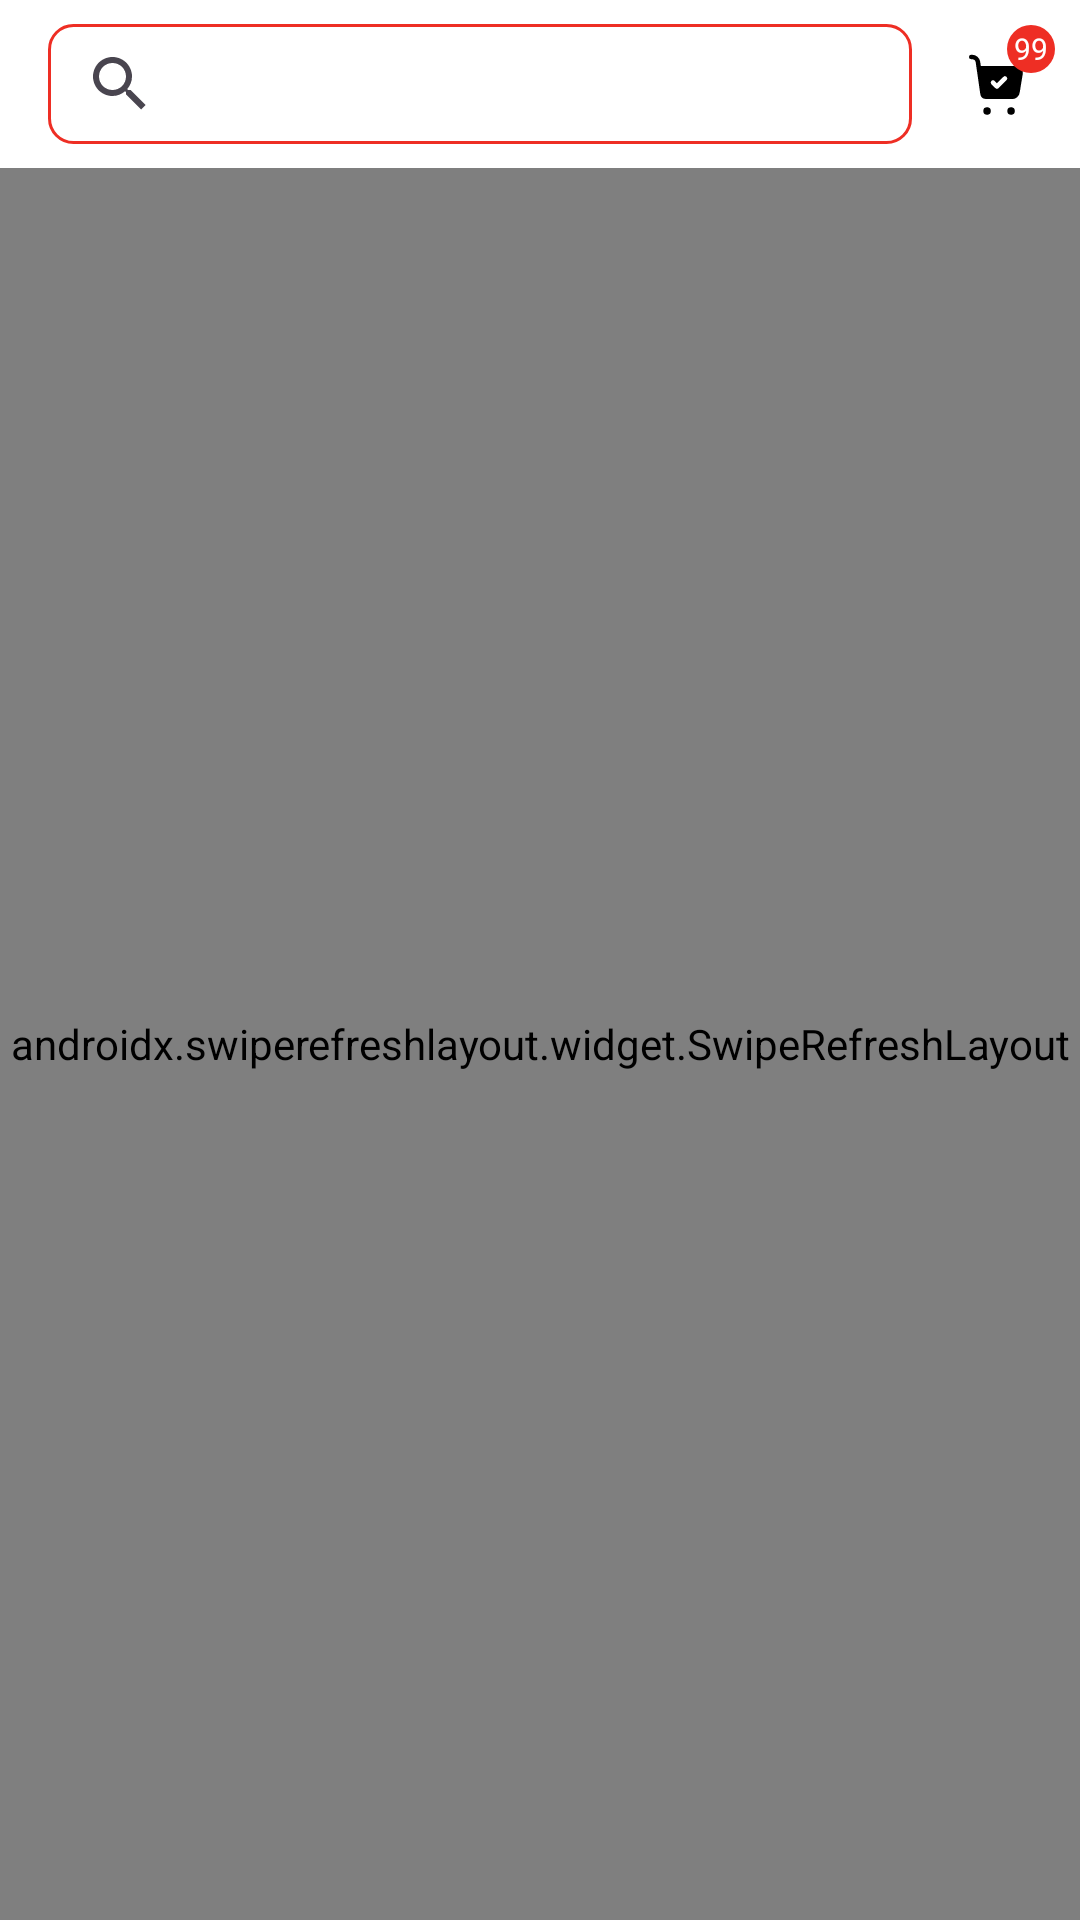

Icon bounding boxes for this 1080 × 1920 phone screenshot, format (x1, y1, x2, y2):
cart: (969, 48, 1032, 115)
